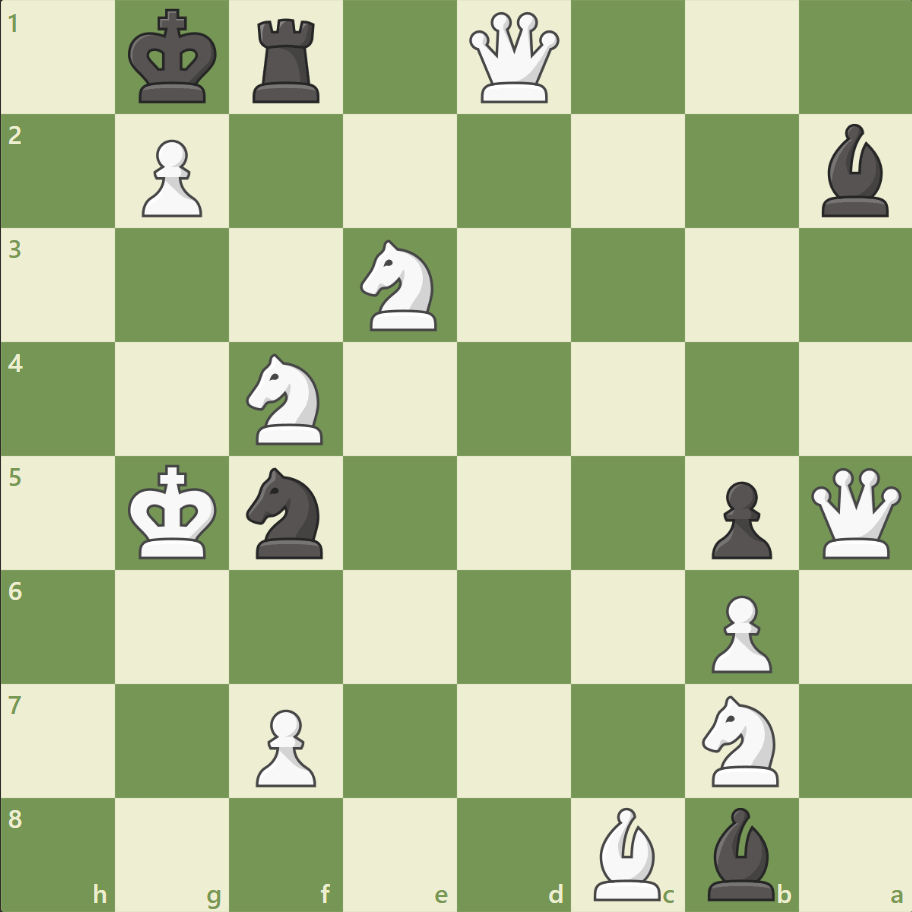B: (585, 801, 669, 904)
K: (124, 458, 224, 566)
N: (351, 234, 449, 337), (692, 688, 789, 791), (238, 348, 335, 450)
P: (247, 700, 322, 791), (701, 586, 776, 677), (133, 132, 208, 223)
Q: (805, 463, 904, 562), (464, 9, 563, 108)
b: (698, 801, 782, 904), (812, 120, 896, 222)
k: (124, 4, 224, 112)
n: (238, 461, 335, 564)
p: (701, 473, 776, 564)
r: (246, 12, 329, 109)
